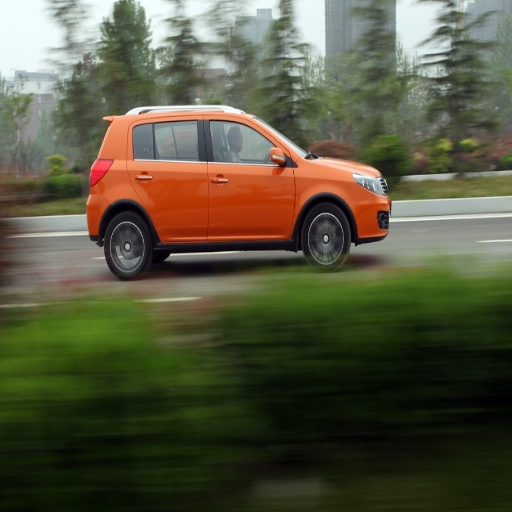back_right_door: (128, 116, 206, 241)
front_right_door: (207, 115, 294, 240)
